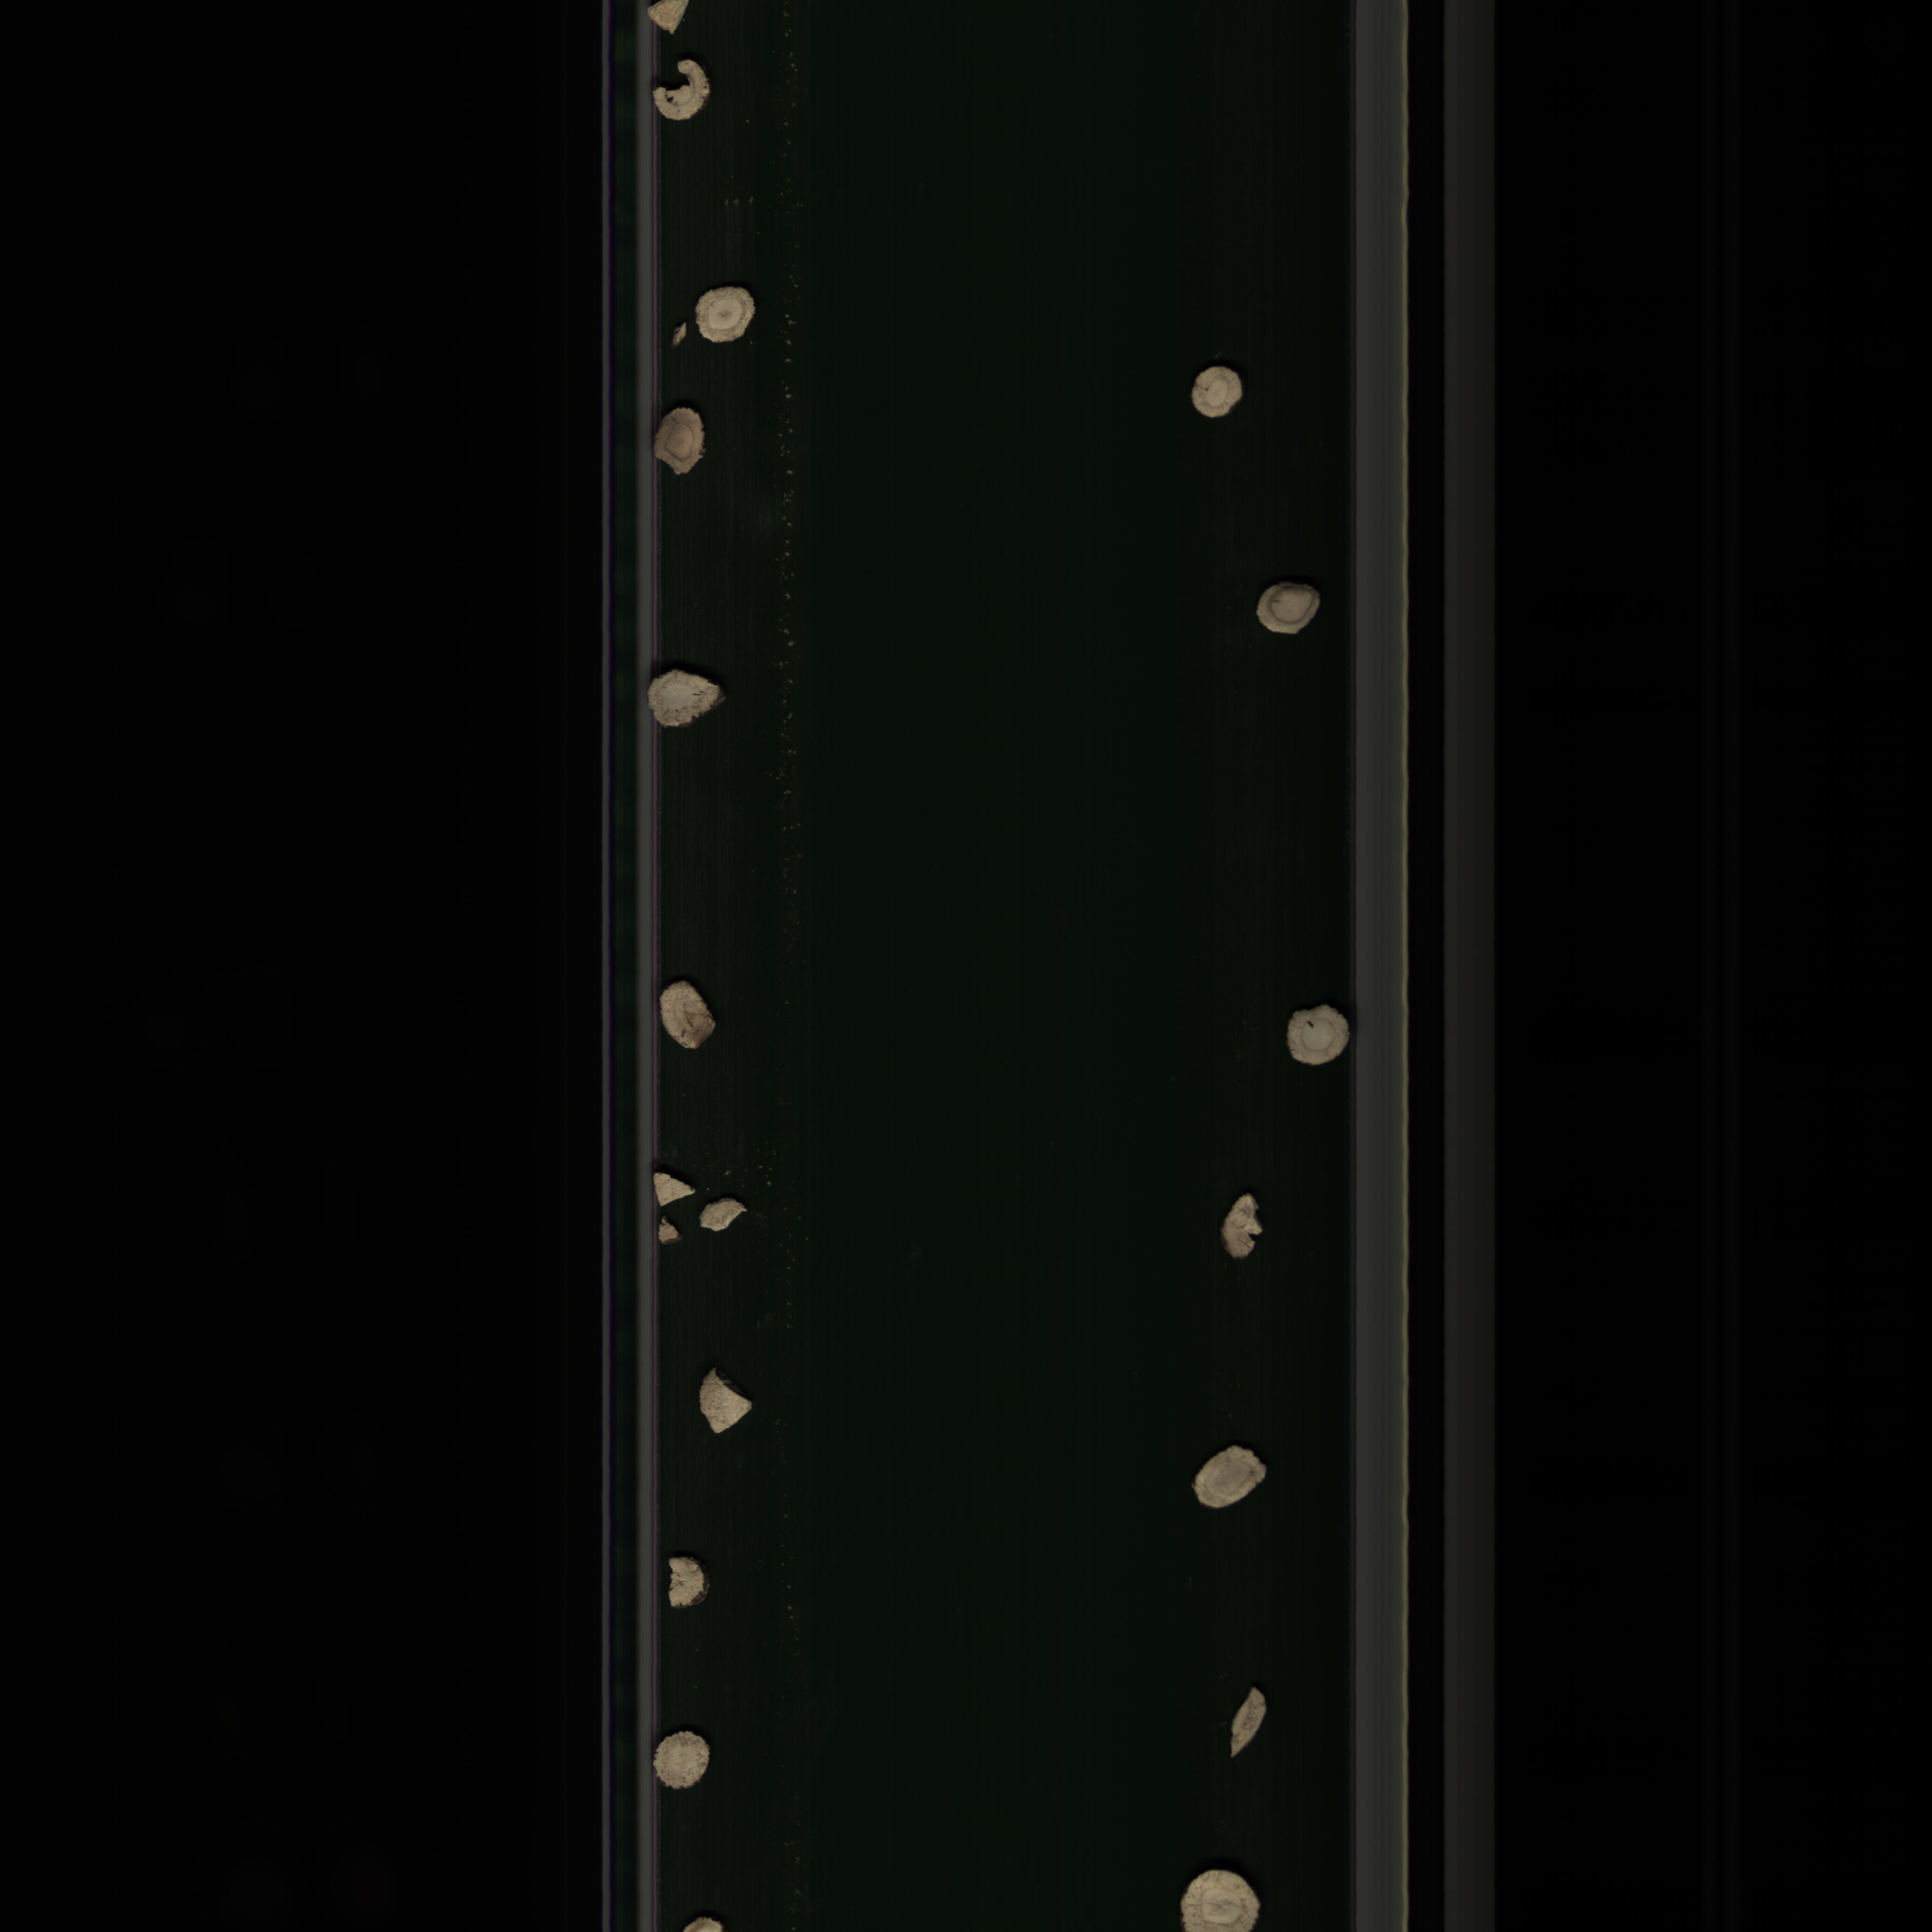debris: (697, 1366, 759, 1440), (1217, 1683, 1274, 1760), (1219, 1189, 1267, 1267), (658, 1552, 713, 1615), (695, 1198, 755, 1238), (648, 1168, 697, 1208), (655, 1217, 686, 1253)
distortion: (644, 663, 724, 736)
hole: (1284, 1001, 1353, 1069)
moldy: (648, 405, 713, 481), (655, 53, 718, 126)
